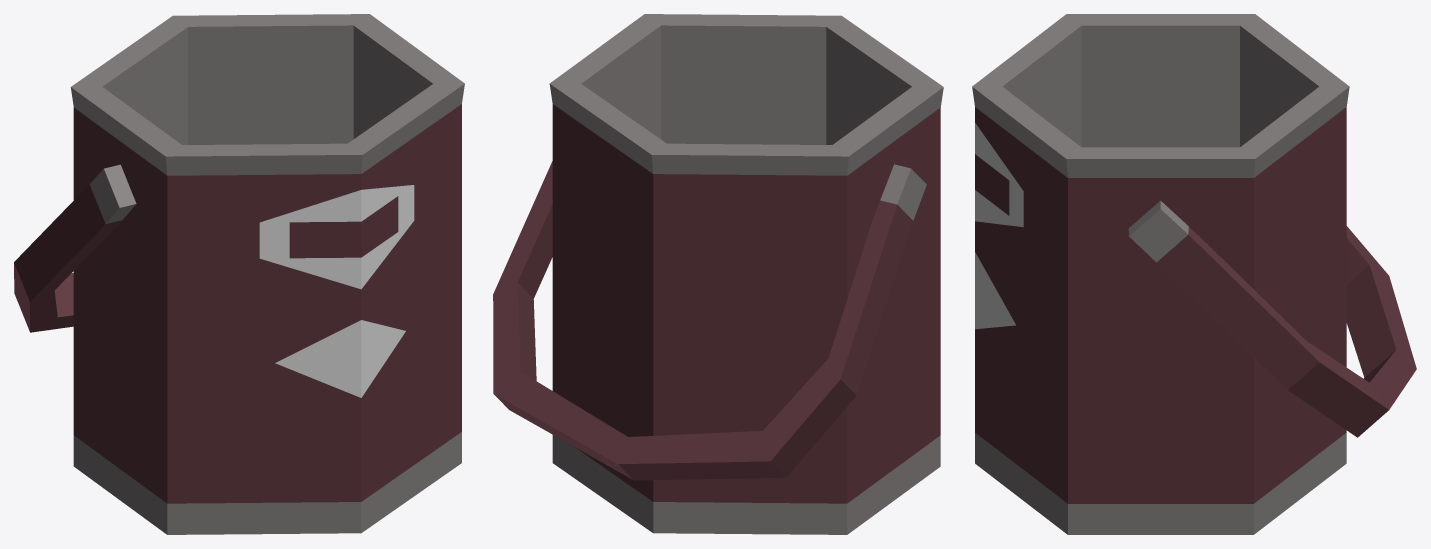
File: can-paint-empty.fbx
3 views of the same model, side by side, from view 1: azimuth 30°, elevation 25°; view 2: azimuth 150°, elevation 25°; view 3: azimuth 270°, elevation 25° (orthographic).
Visible parts, largest first — view 1: can-paint-empty; view 2: can-paint-empty; view 3: can-paint-empty.
Part boxes in pixels (box(x1,y1,x2,y2)): can-paint-empty: box(14, 14, 464, 534); can-paint-empty: box(493, 14, 943, 534); can-paint-empty: box(972, 14, 1416, 534).
Bounding box in the file's own units: 0.1769 × 0.1846 × 0.1974.
